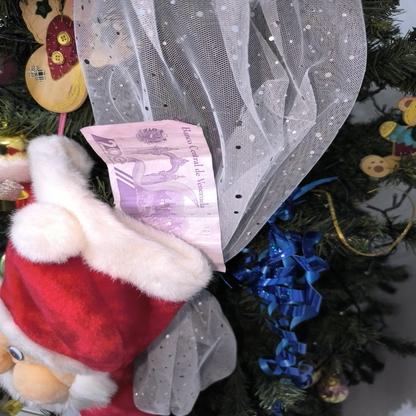one_hundred-back-vef: (79, 120, 226, 272)
